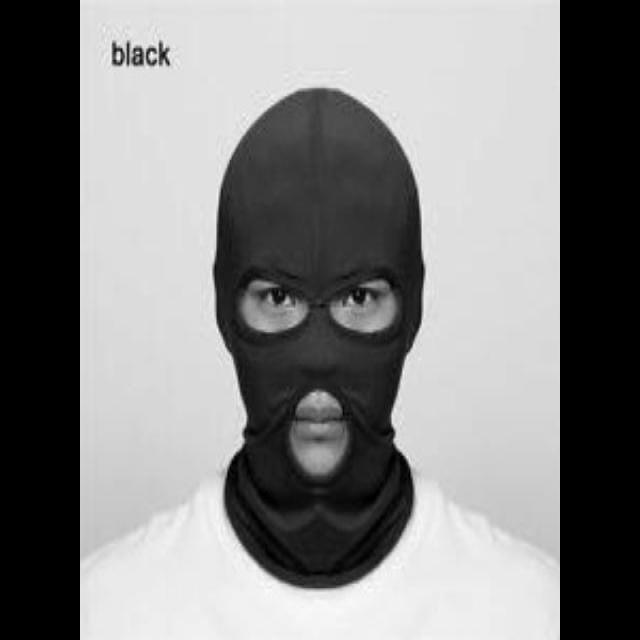6_pasamontana: (212, 86, 424, 589)
